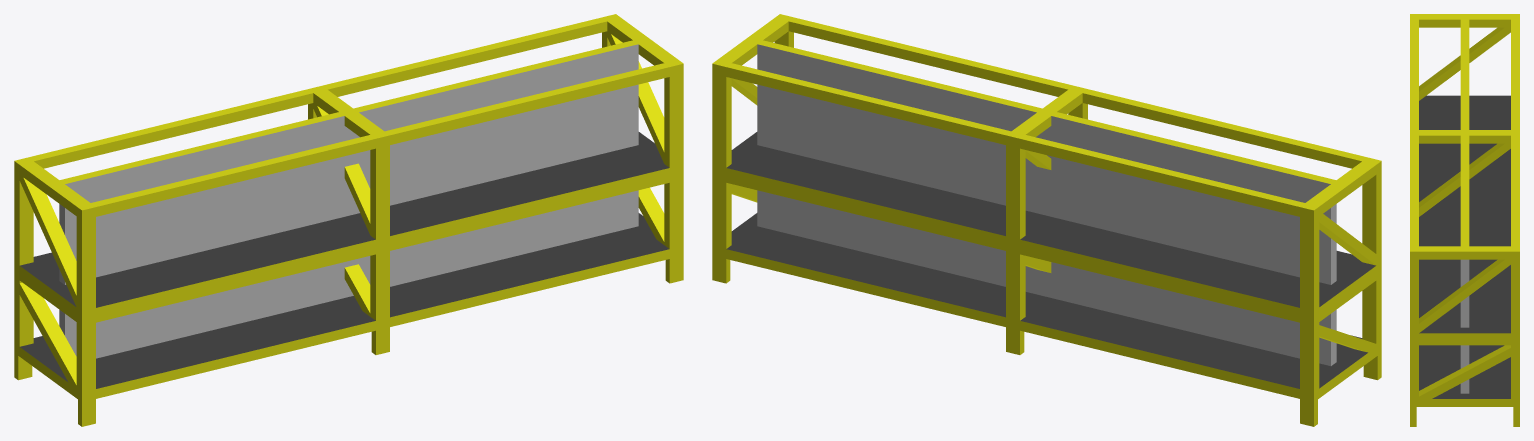
File: vecchio scaffle giallo.glb
3 views of the same model, side by side, from view 1: azimuth 30°, elevation 25°; view 2: azimuth 150°, elevation 25°; view 3: azimuth 270°, elevation 25° (orthographic). The views are drawn at different scales.
Parts seen in each view (by area): view 1: Solid1; view 2: Solid1; view 3: Solid1.
Part boxes in pixels (<box>): Solid1: <box>14,14,683,426</box>; Solid1: <box>712,14,1381,426</box>; Solid1: <box>1410,14,1519,426</box>.
Size of the model in its own units: 6.4 by 2.2 by 1.25.
